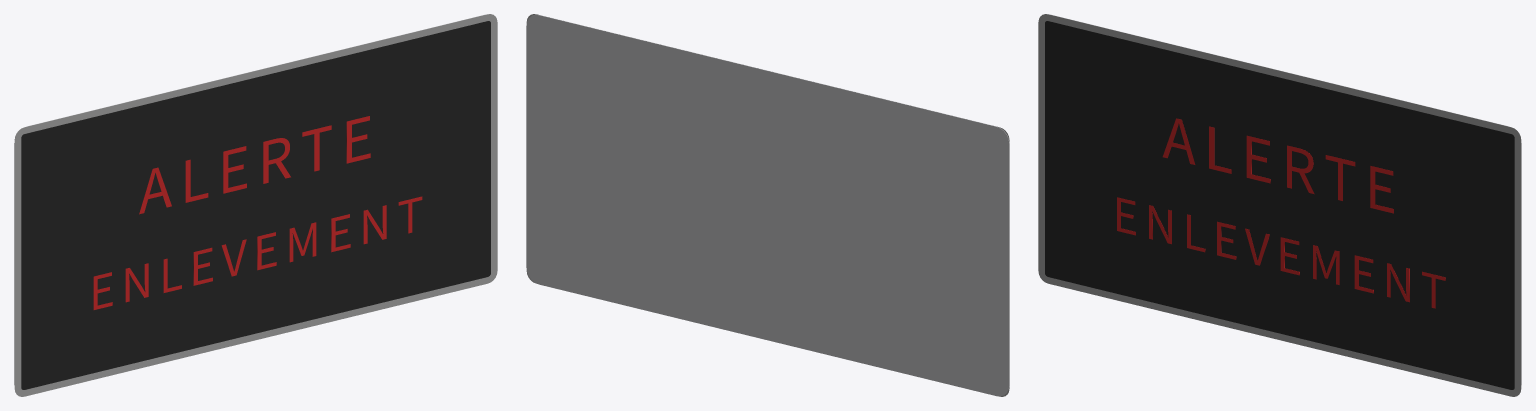
Rendered from ALERTE_ENLEVEMENT.glb.
3 views of the same model, side by side, from view 1: azimuth 30°, elevation 25°; view 2: azimuth 150°, elevation 25°; view 3: azimuth 330°, elevation 25° (orthographic).
Parts seen in each view (by area): view 1: ALERTE_ENLEVEMENT_fond01, ALERTE_ENLEVEMENT_cadre00, ALERTE_ENLEVEMENT_txt03, ALERTE_ENLEVEMENT_txt02, ALERTE_ENLEVEMENT_dos; view 2: ALERTE_ENLEVEMENT_dos; view 3: ALERTE_ENLEVEMENT_fond01, ALERTE_ENLEVEMENT_cadre00, ALERTE_ENLEVEMENT_txt03, ALERTE_ENLEVEMENT_txt02, ALERTE_ENLEVEMENT_dos.
Boxes of the visible parts, box(x1,y1,x2,y2) form: ALERTE_ENLEVEMENT_fond01: box(21, 21, 490, 389); ALERTE_ENLEVEMENT_cadre00: box(14, 14, 497, 396); ALERTE_ENLEVEMENT_txt03: box(93, 196, 422, 309); ALERTE_ENLEVEMENT_txt02: box(139, 116, 370, 214); ALERTE_ENLEVEMENT_dos: box(14, 14, 484, 384); ALERTE_ENLEVEMENT_dos: box(526, 14, 1009, 396); ALERTE_ENLEVEMENT_fond01: box(1045, 21, 1514, 389); ALERTE_ENLEVEMENT_cadre00: box(1038, 14, 1521, 396); ALERTE_ENLEVEMENT_txt03: box(1117, 197, 1445, 308); ALERTE_ENLEVEMENT_txt02: box(1162, 118, 1393, 213); ALERTE_ENLEVEMENT_dos: box(1051, 14, 1521, 384).
Size of the model in its own units: 1.5 by 0.8 by 0.0029.
